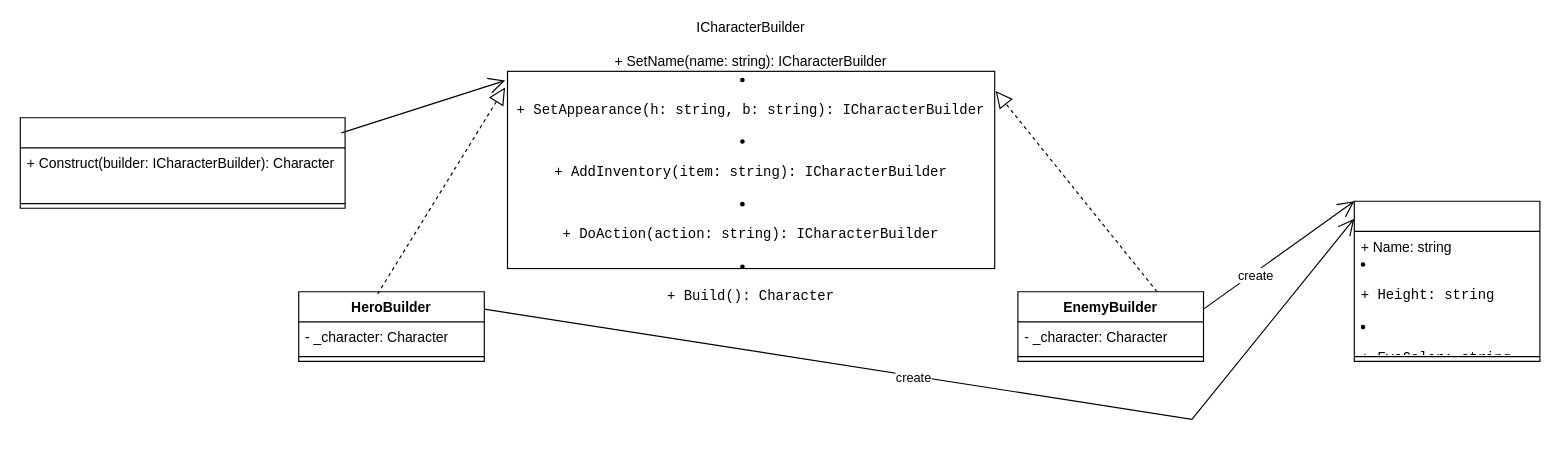
This 1560x456 diagram has some shape labels left out. The shapes that lost their labels are listed below. From the top down, each one's box as (x1, y1, x2, y2) in pixels, then its label:
(19, 117, 345, 208): Director
(1353, 200, 1540, 361): Character
